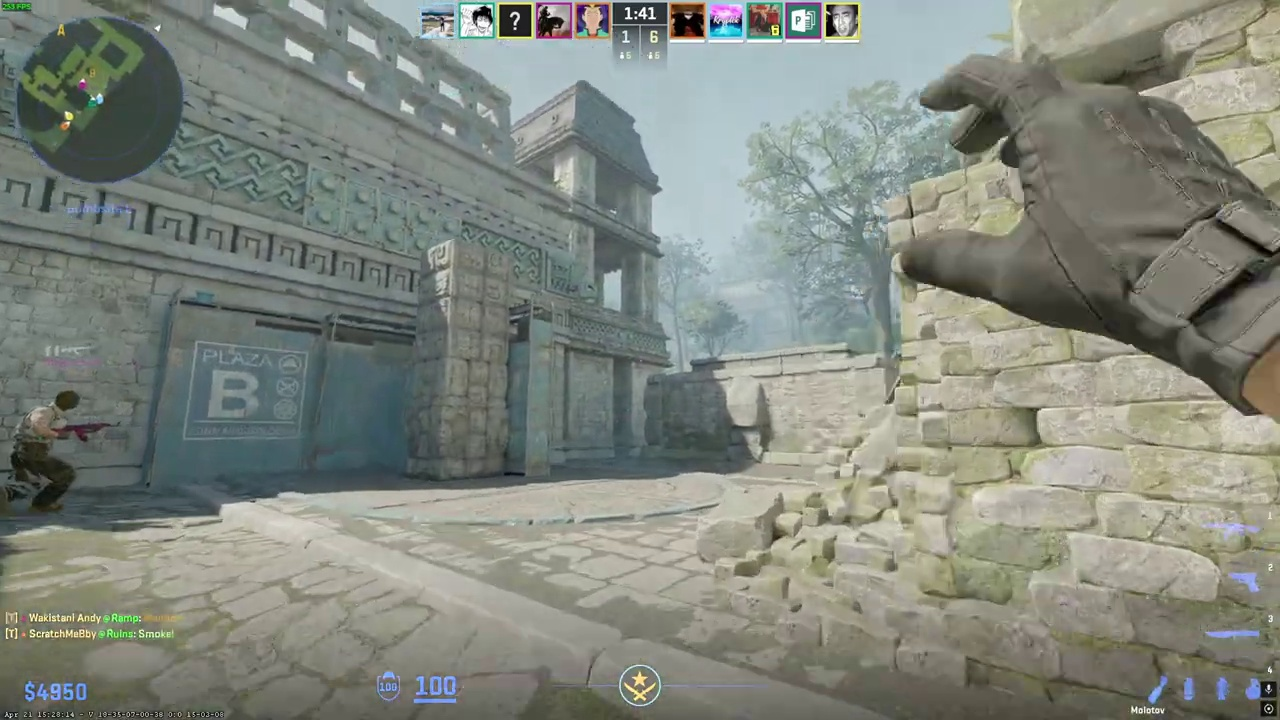Terrorist: (10, 390, 88, 514)
